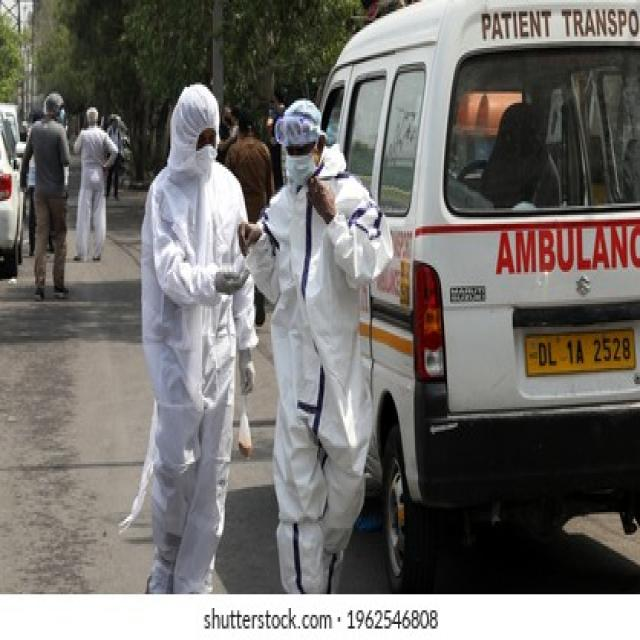ambulance: (308, 3, 640, 590)
